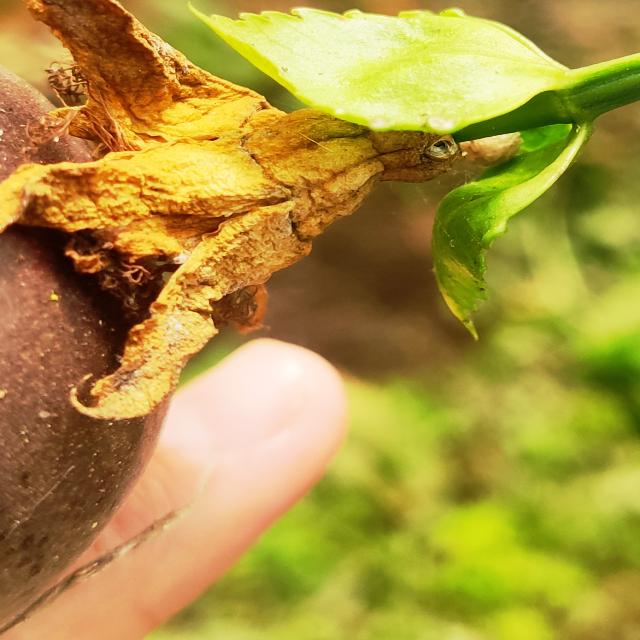Estado-5: (0, 0, 471, 594)
